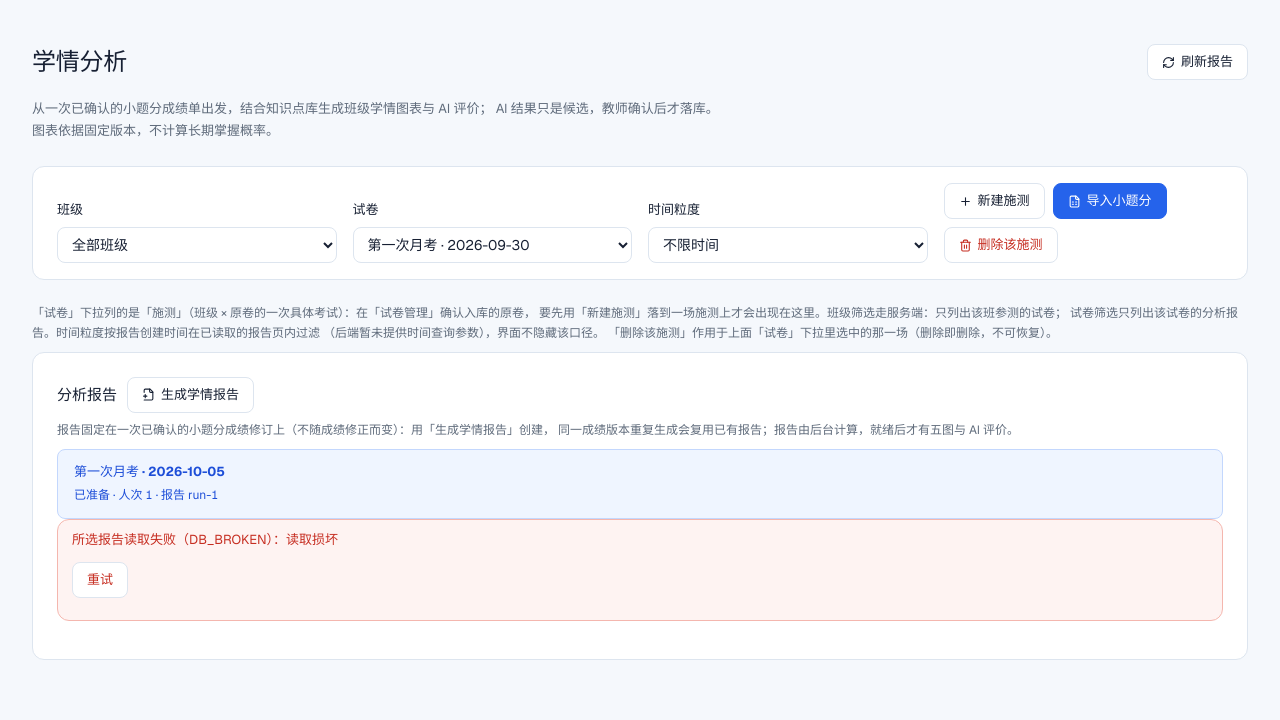
Scenario: 学情分析工作区 › 报告读取失败显示原因与重试，不当空目录；未就绪报告不读图表
Expected: the message with test id "la-run-error" shows "DB_BROKEN", x1=189 y1=531 x2=267 y2=548
Click the button "重试".
click(100, 580)  # box x1=72 y1=562 x2=128 y2=598
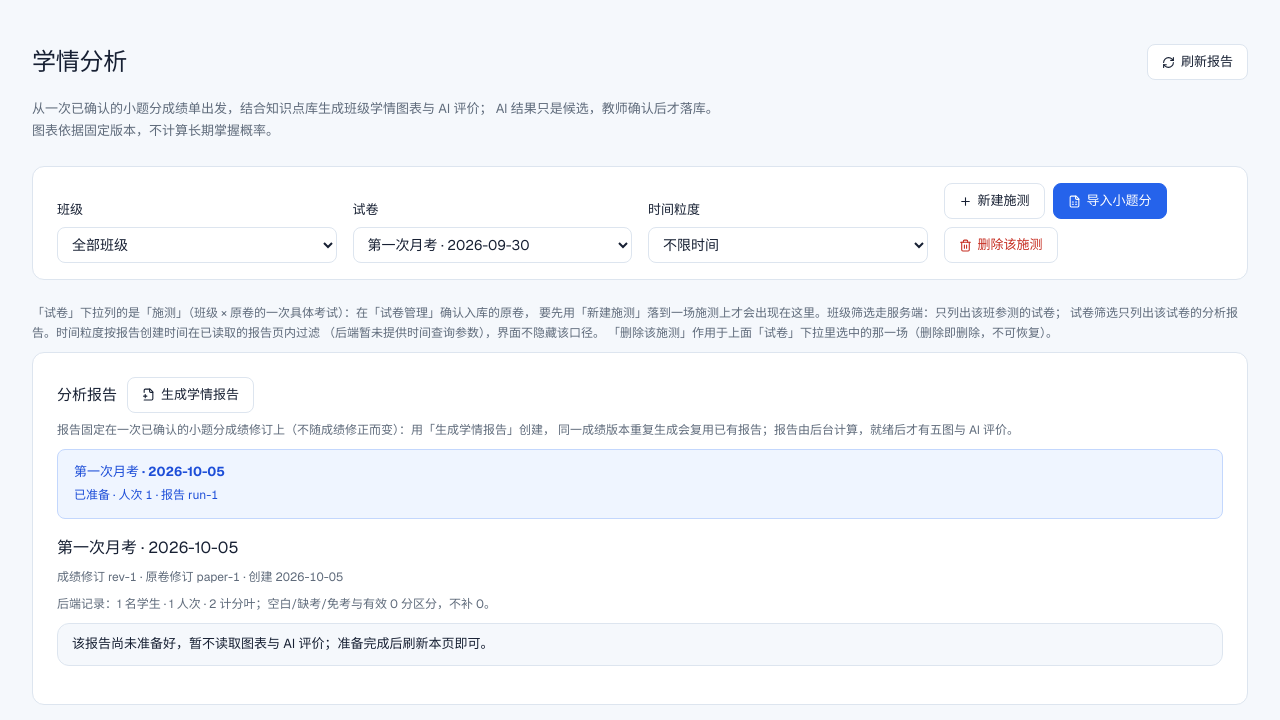
Now the message with test id "la-run-not-ready" shows "该报告尚未准备好", box x1=72 y1=635 x2=493 y2=652
